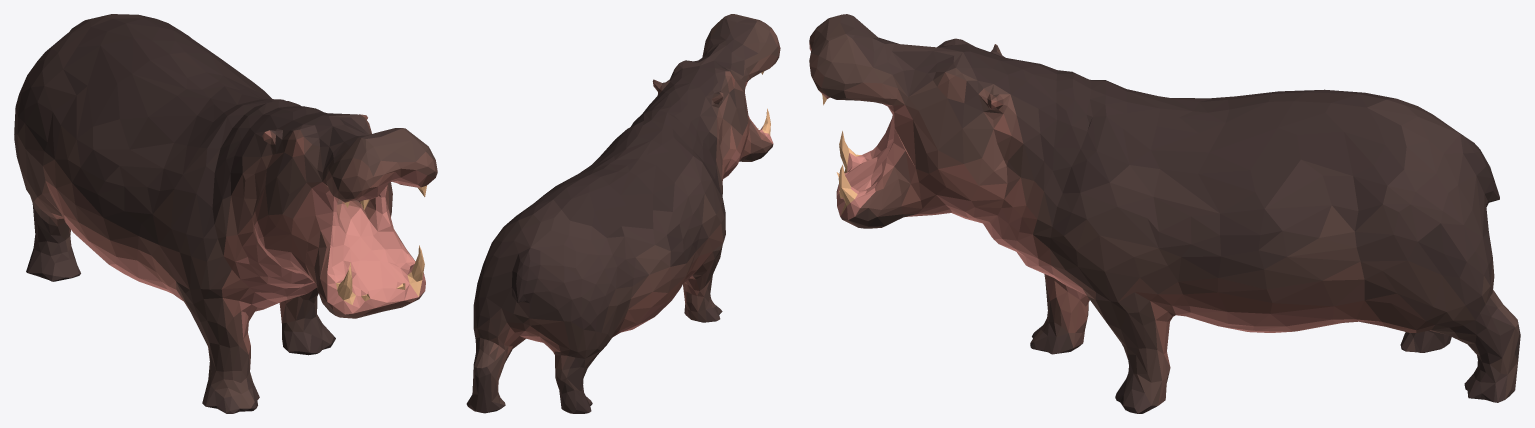
Rendered from low-poly-hippo.glb.
3 views of the same model, side by side, from view 1: azimuth 30°, elevation 25°; view 2: azimuth 150°, elevation 25°; view 3: azimuth 270°, elevation 25° (orthographic). The views are drawn at different scales.
Visible parts, largest first — view 1: low-poly-hippo; view 2: low-poly-hippo; view 3: low-poly-hippo.
Boxes of the visible parts, x1,y1,x2,y2 form: low-poly-hippo: (14, 14, 437, 413); low-poly-hippo: (466, 14, 780, 413); low-poly-hippo: (809, 14, 1520, 413).
Bounding box in the file's own units: 1.4 × 2.14 × 4.01.
Materials: 1 (1 with a texture image).
